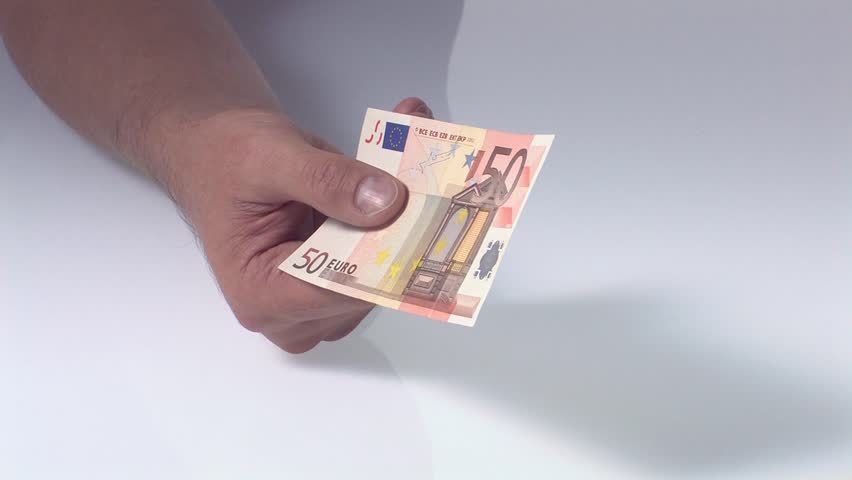billete: (275, 105, 559, 330)
